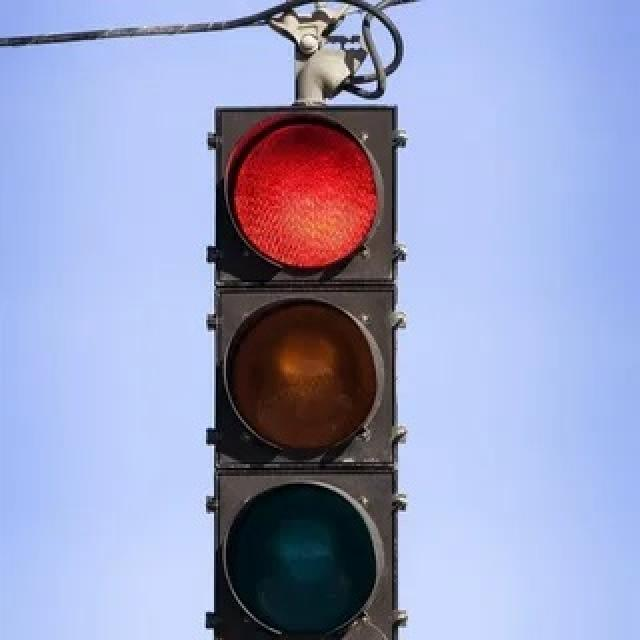kirmizi: (216, 107, 398, 638)
